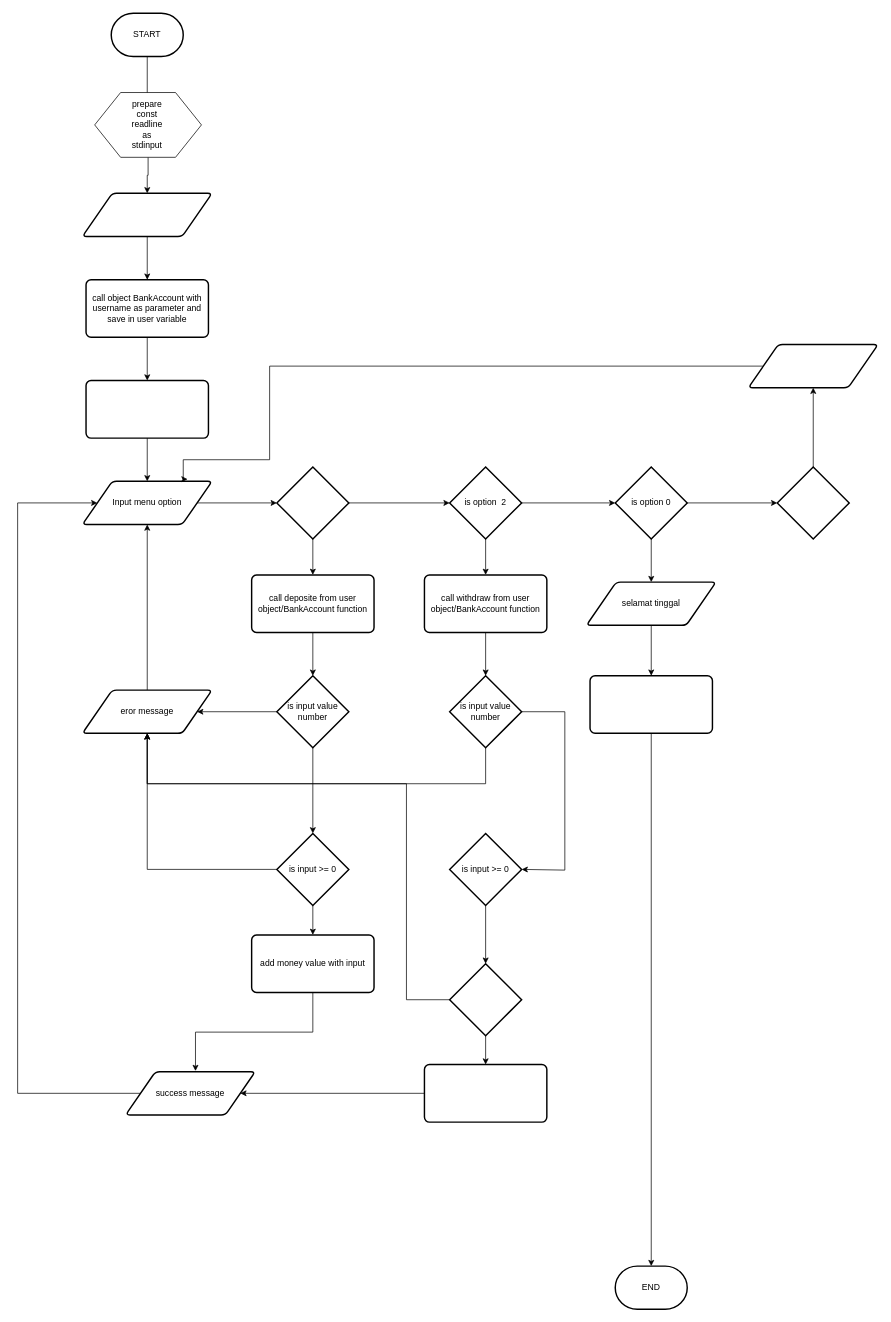
This 891x1322 diagram has some shape labels left out. Each missing label, with the box of its shape:
call loopMenu function with user and readline as parameter: (85, 379, 209, 438)
default: (776, 466, 850, 539)
input username: (81, 192, 212, 237)
is money < input: (449, 963, 522, 1036)
is option 1: (276, 466, 349, 539)
opsi yang kamu masukkan tidak ada di menu: (747, 343, 878, 388)
readline std input exit: (589, 675, 713, 734)
reduce money: (423, 1063, 547, 1122)
